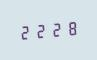eight: (63, 18, 77, 37)
two: (18, 22, 32, 41), (33, 21, 47, 40), (48, 20, 62, 38)
